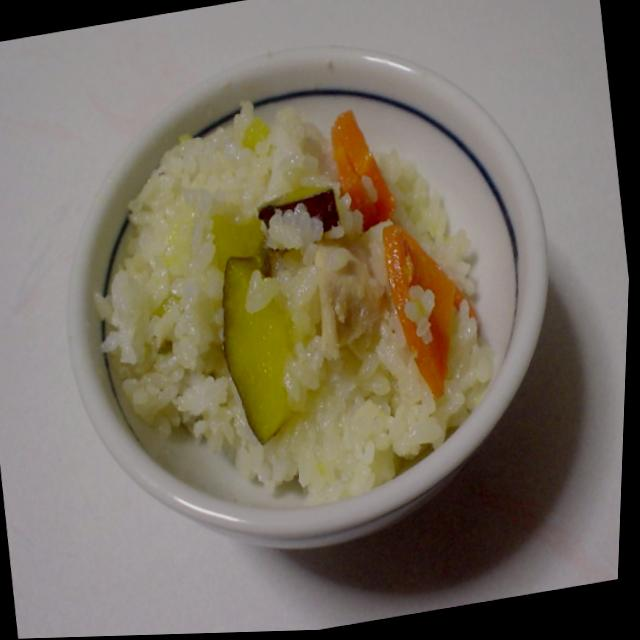米饭主食: (65, 66, 511, 542)
